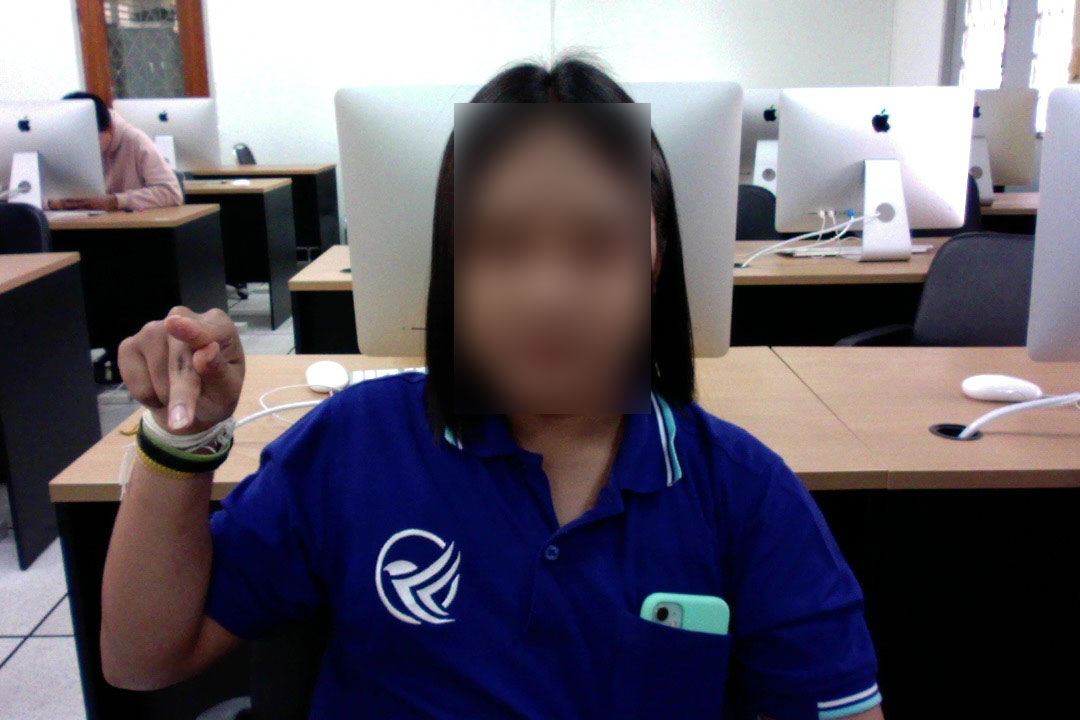por: (110, 297, 250, 446)
